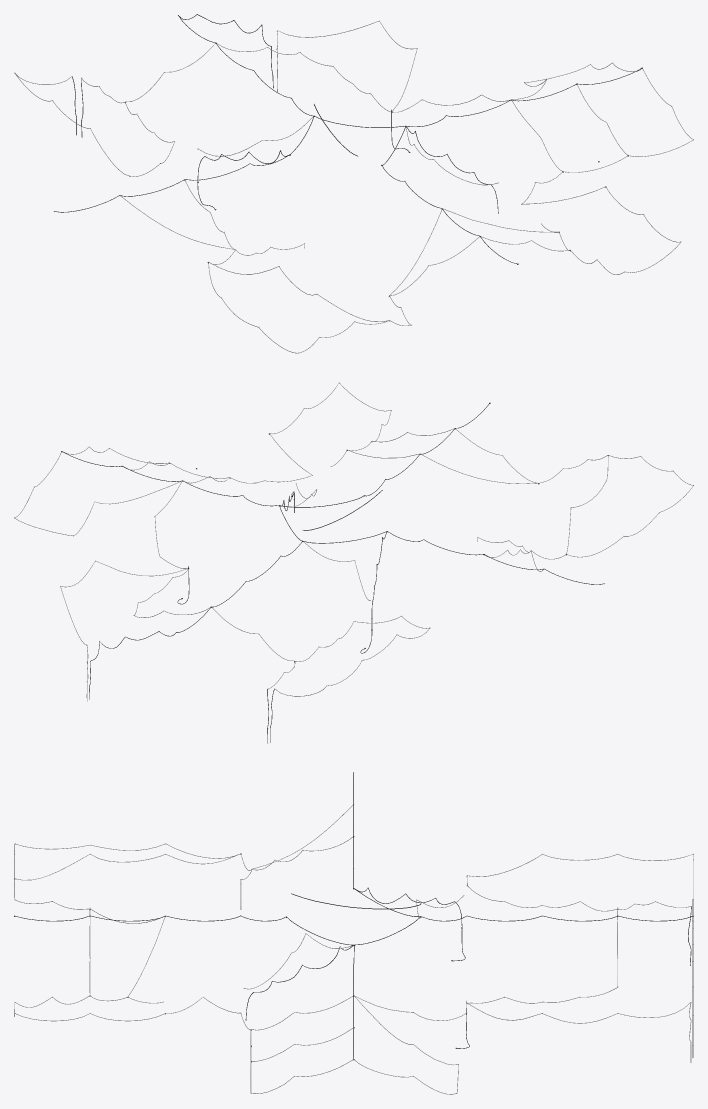
File: Cables.fbx
3 views of the same model, one above another, from view 1: azimuth 30°, elevation 25°; view 2: azimuth 150°, elevation 25°; view 3: azimuth 270°, elevation 25° (orthographic). The views are drawn at different scales.
Visible parts, largest first — view 1: Cables1; view 2: Cables1; view 3: Cables1.
Part boxes in pixels (bbox=[...]): Cables1: bbox=[14, 14, 693, 353]; Cables1: bbox=[14, 382, 693, 743]; Cables1: bbox=[14, 772, 693, 1094].
Size of the model in its own units: 7211 by 1308 by 7216.
Materials: 1 (1 with a texture image).
